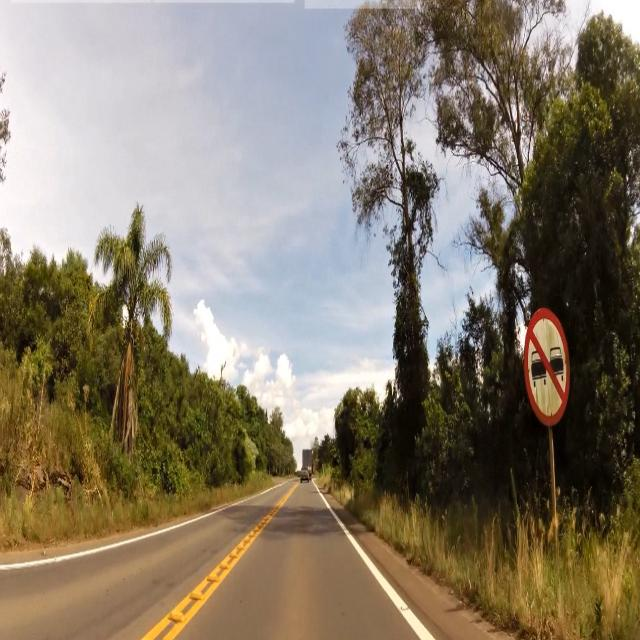R-7: (512, 304, 586, 434)
